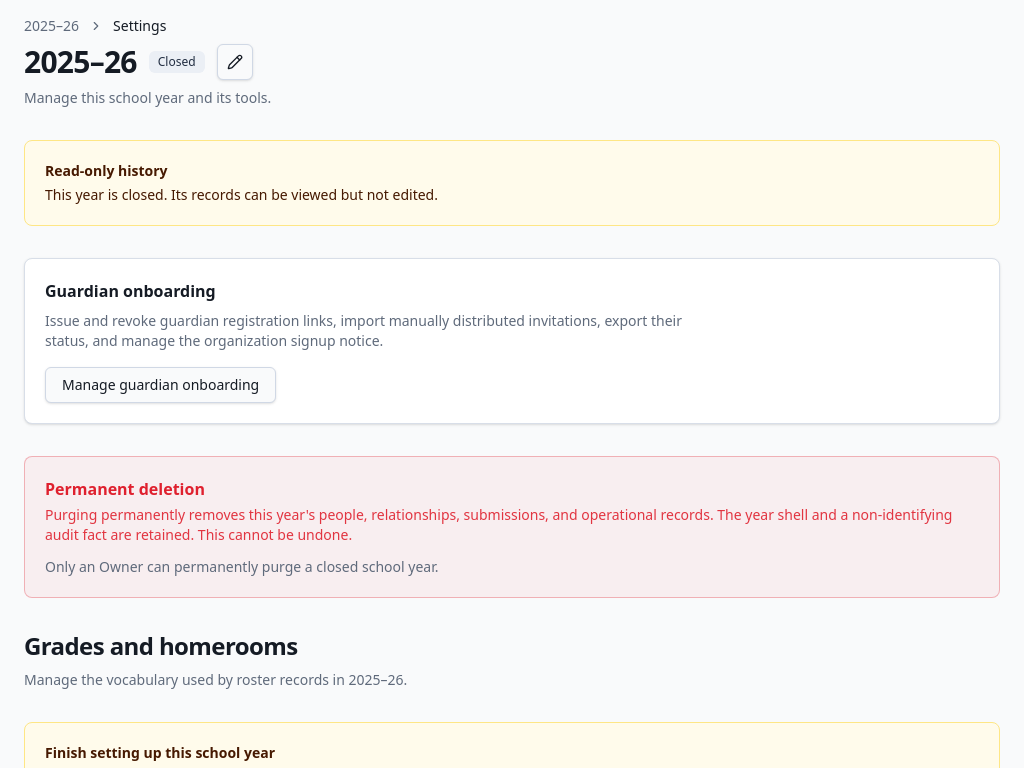
Test: SchoolYearSettingsPage › does not show the owner-only reopen control to an administrator
This screenshot has width=1024, height=768.
Expected: the heading "Read-only history" is shown, top-left (45, 161), bottom-right (168, 180)
Click the button named "Edit school year". click: (235, 62)
box: top-left (217, 44), bottom-right (253, 80)
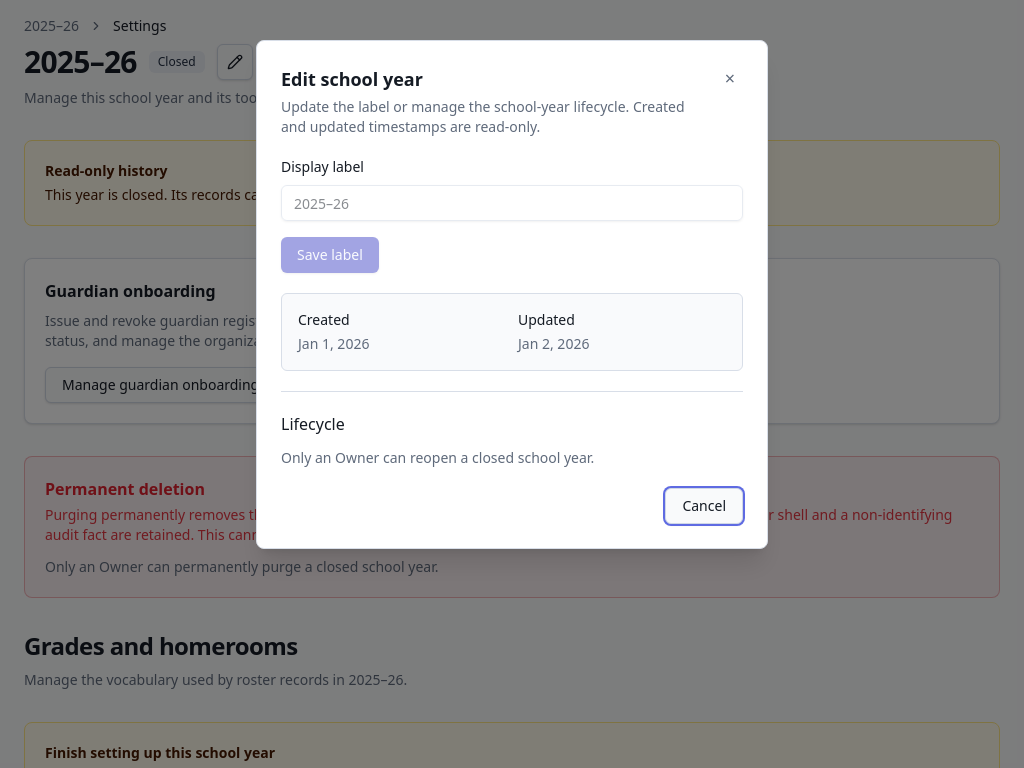
Now the text "Only an Owner can reopen a closed school year." is shown, box top-left (281, 448), bottom-right (594, 467)
